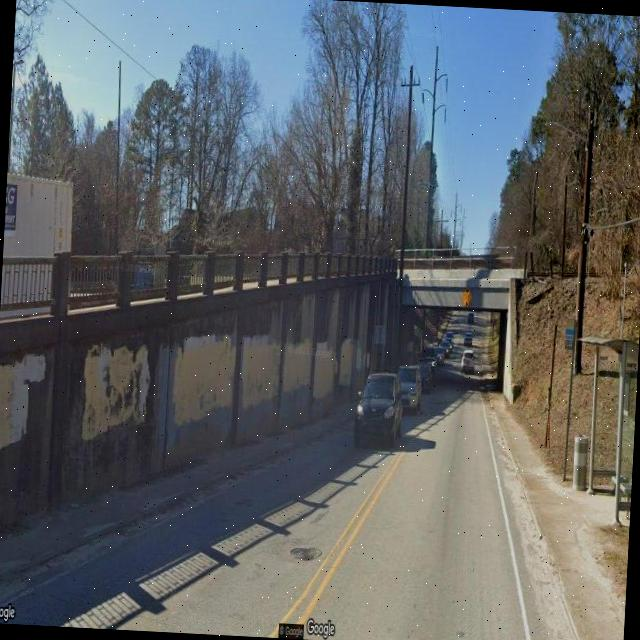seating: (609, 474, 632, 520)
shelter: (568, 333, 640, 528)
trash_can: (572, 436, 590, 490)
